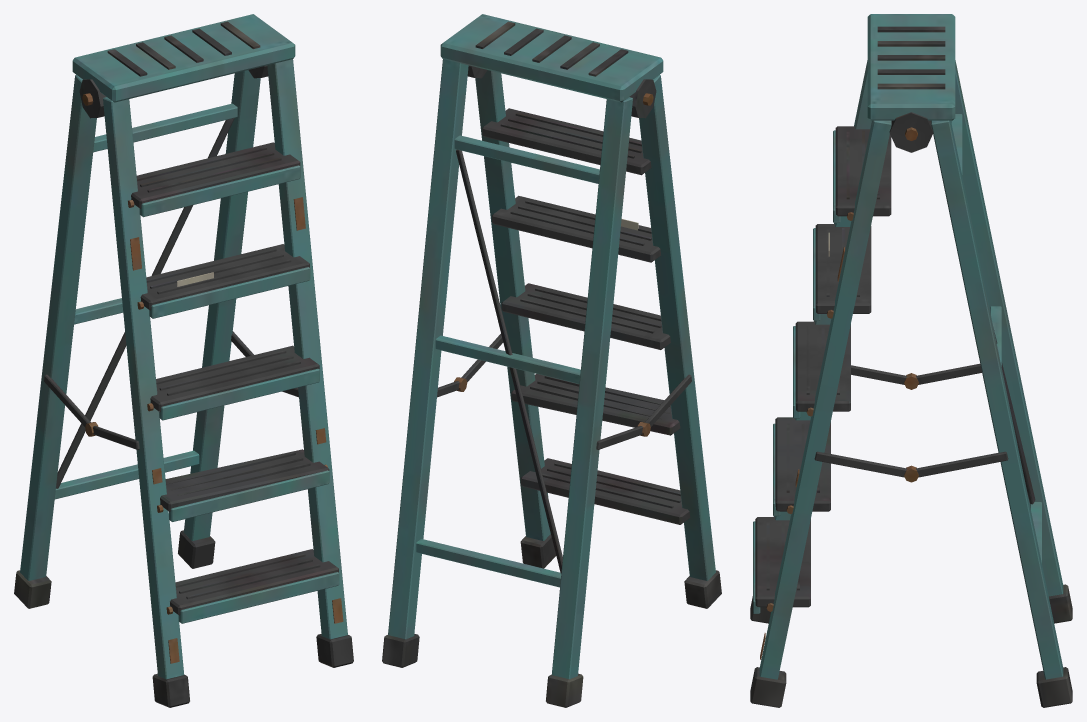
Rendered from P26_portable_ladder.glb.
3 renders of one model, left to right at view 1: azimuth 30°, elevation 25°; view 2: azimuth 150°, elevation 25°; view 3: azimuth 270°, elevation 25°, orthographic. The views are drawn at different scales.
Parts seen in each view (by area): view 1: Teal channel upright; view 2: Teal channel upright; view 3: Teal channel upright.
Boxes of the visible parts, x1,y1,x2,y2 form: Teal channel upright: (14, 14, 353, 707); Teal channel upright: (382, 14, 721, 707); Teal channel upright: (750, 14, 1072, 707).
Bounding box in the file's own units: 0.7046 × 2 × 0.9665.
Materials: 5 (5 with a texture image).
